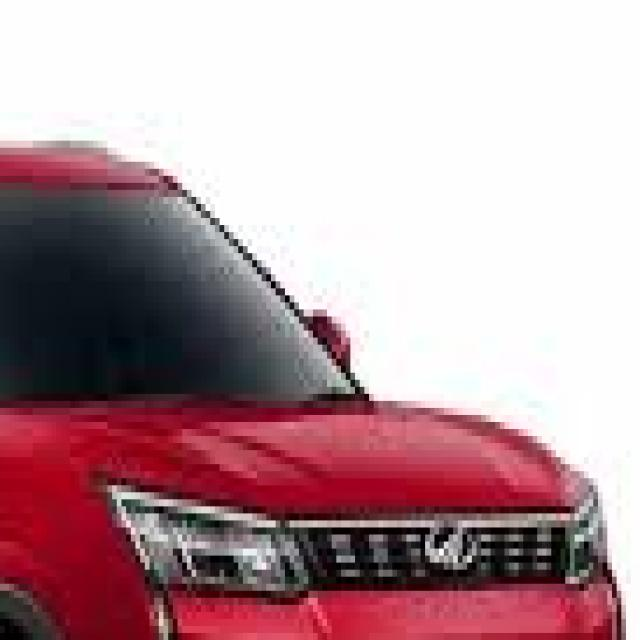car: (0, 84, 626, 640)
